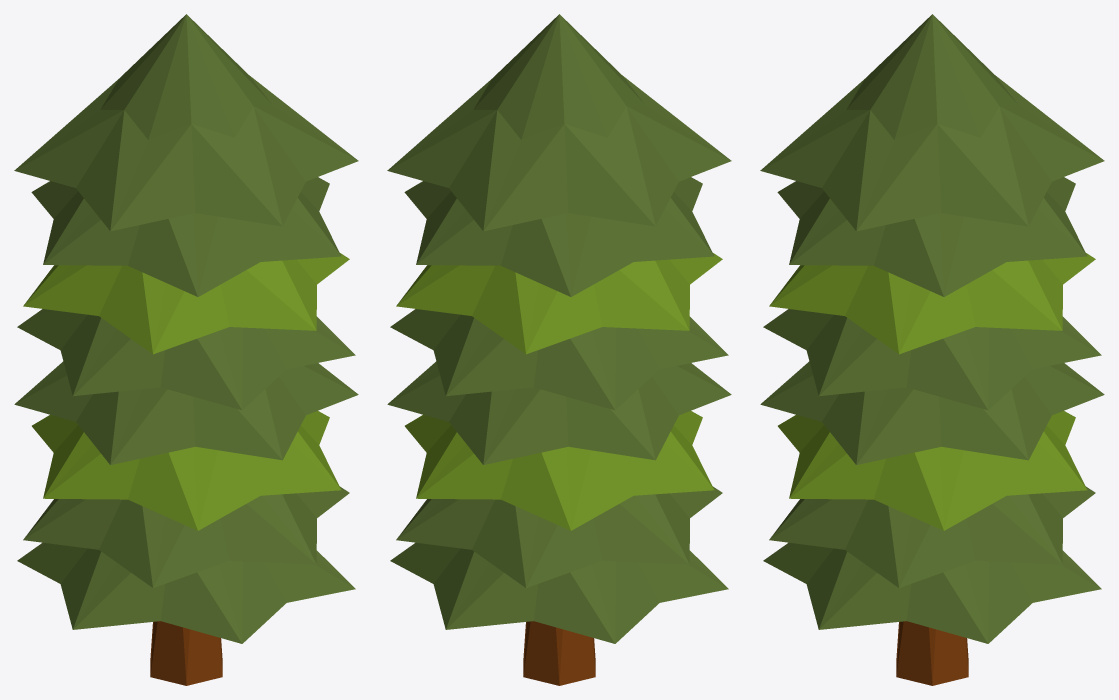
The model's file is hedgehog_pine_small.fbx.
3 renders of one model, left to right at view 1: azimuth 30°, elevation 25°; view 2: azimuth 150°, elevation 25°; view 3: azimuth 270°, elevation 25°, orthographic.
Parts seen in each view (by area): view 1: _G-Object (Loose Mesh), G-Object.001; view 2: _G-Object (Loose Mesh), G-Object.001; view 3: _G-Object (Loose Mesh), G-Object.001.
Boxes of the visible parts, <box> form: _G-Object (Loose Mesh): <box>14,14,358,643</box>; G-Object.001: <box>150,621,222,685</box>; _G-Object (Loose Mesh): <box>387,14,731,643</box>; G-Object.001: <box>523,621,595,685</box>; _G-Object (Loose Mesh): <box>760,14,1104,643</box>; G-Object.001: <box>896,621,968,685</box>.
Size of the model in its own units: 334 by 700 by 334.
